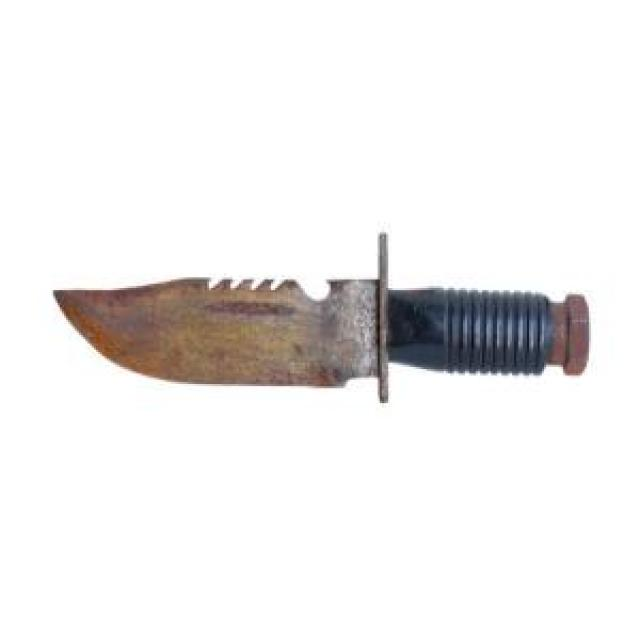knife: (56, 228, 596, 413)
